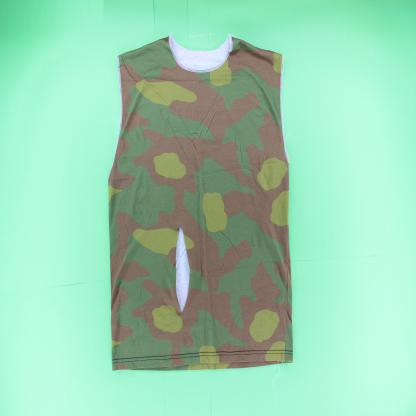hole: (173, 222, 192, 316)
